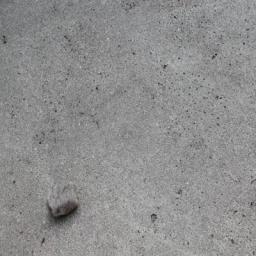FOD: (43, 179, 83, 219)
